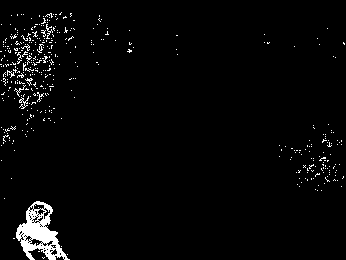person: (15, 199, 68, 260)
